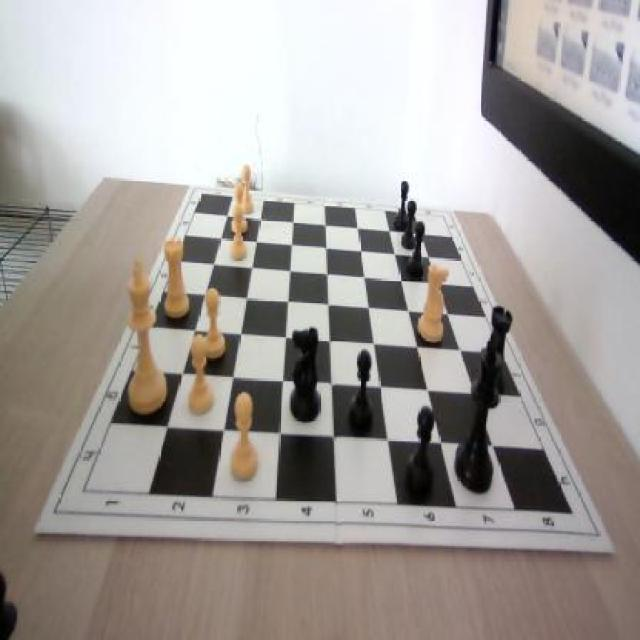black-bishop: (454, 331, 501, 495)
black-king: (288, 326, 320, 424)
black-knight: (406, 409, 436, 497), (351, 348, 376, 433), (408, 223, 424, 279), (394, 182, 410, 233), (402, 200, 418, 248)
black-queen: (478, 305, 512, 390)
white-bishop: (121, 260, 167, 414)
white-king: (417, 262, 451, 346)
white-knight: (226, 392, 259, 482), (190, 335, 218, 418), (200, 286, 226, 358), (230, 204, 248, 260), (231, 182, 246, 234), (240, 163, 253, 213)
white-queen: (165, 232, 189, 317)
